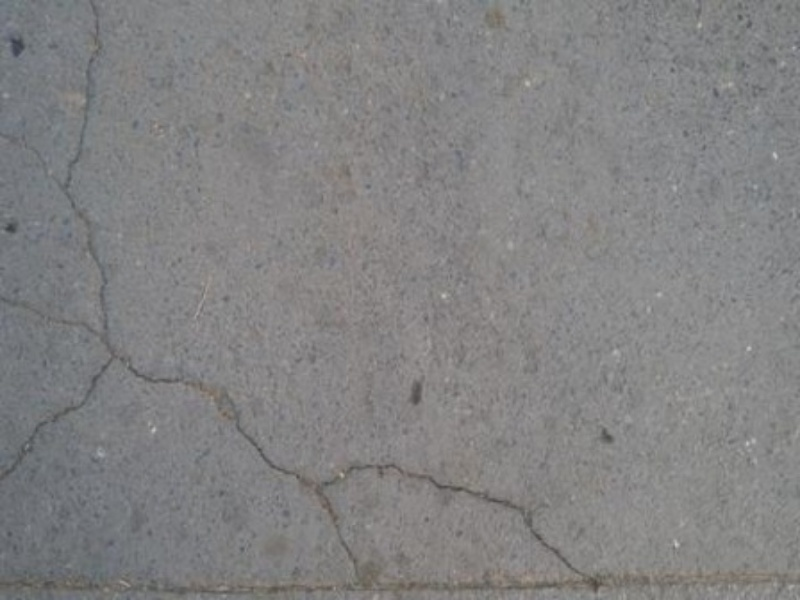crack: (4, 296, 376, 585), (40, 9, 183, 390), (310, 445, 602, 585), (1, 331, 126, 479)
